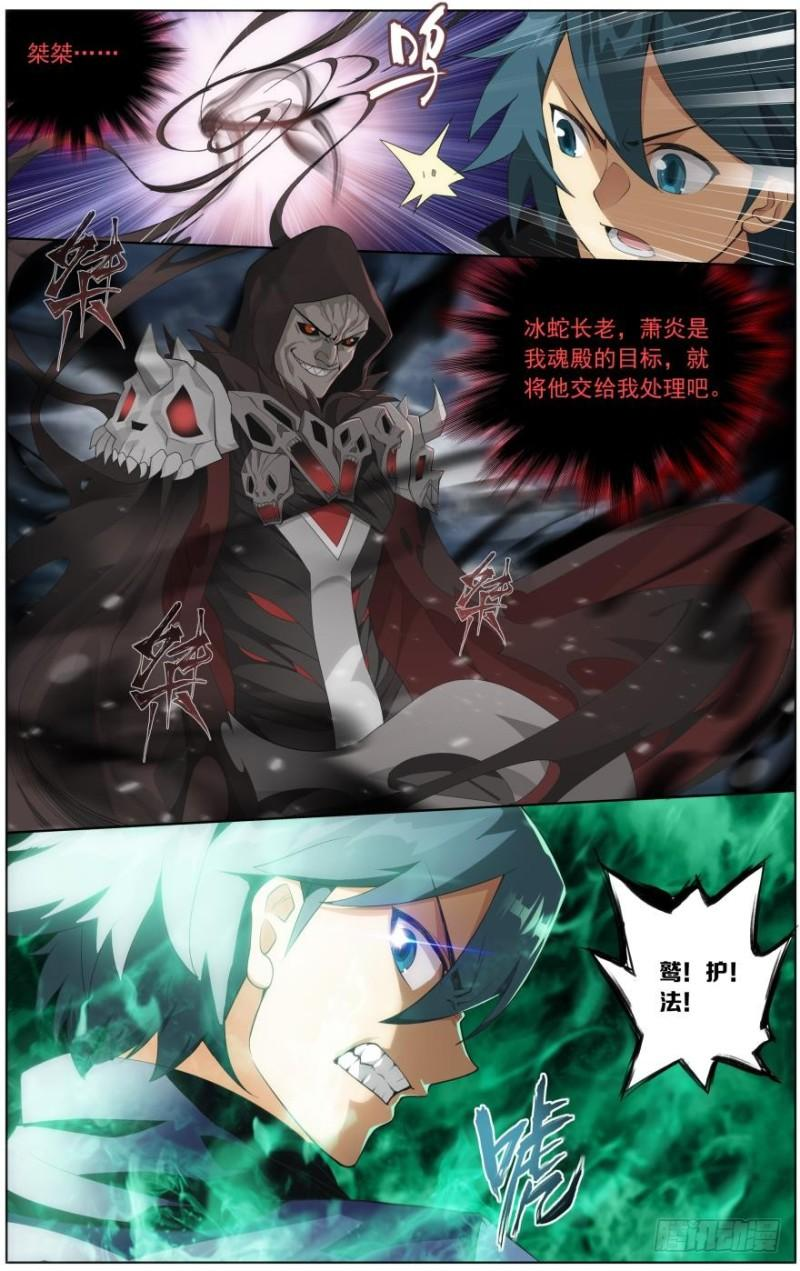boxBad: (447, 248, 780, 514), (3, 8, 189, 155)
boxBomb: (588, 856, 793, 1099)
minBox: (0, 233, 795, 829), (0, 790, 792, 1264), (3, 8, 795, 272)
